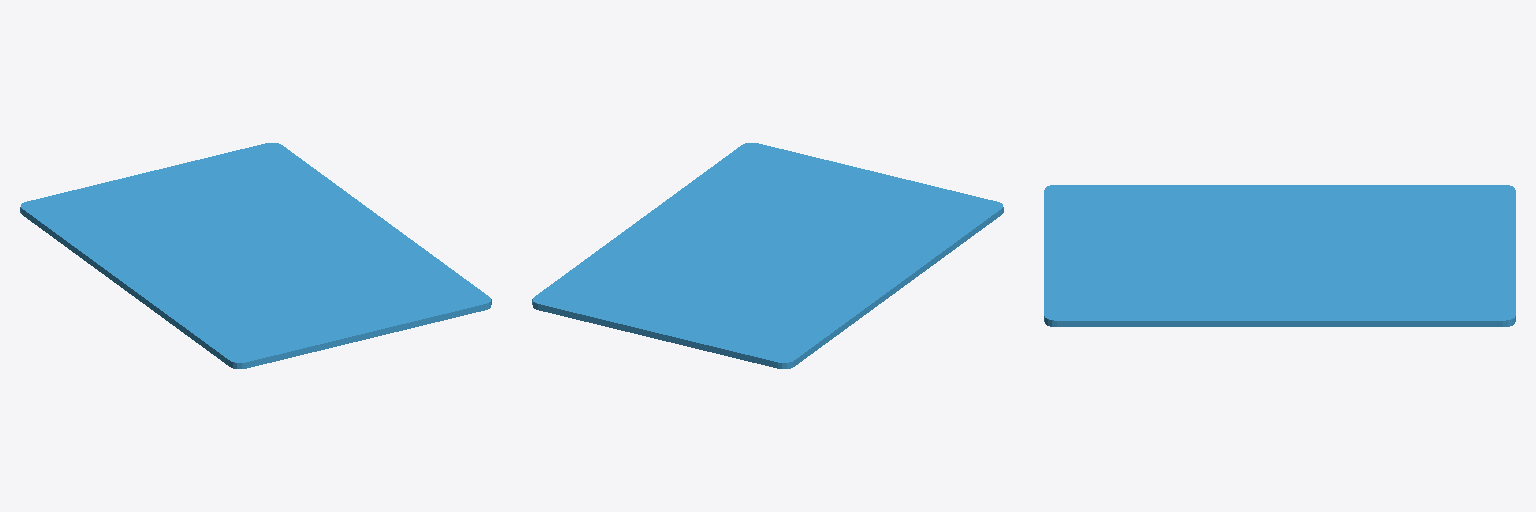
The robot description file, URDF, robot "checkeboard_horizontal":
<?xml version="1.0"?>
<robot name="checkeboard_horizontal">
  <link name="world"/>

  <joint name="fixed" type="fixed">
    <parent link="world"/>
    <child link="checkerboard_base_link"/>
  </joint>

  <link name="checkerboard_base_link">
    <visual>
      <geometry>
        <mesh filename="package://dxl_armed_turtlebot/worlds/model/checkerboard/checkerboard_20mm_7x4.dae"/>
      </geometry>
    </visual>
    <collision>
      <geometry>
        <mesh filename="package://dxl_armed_turtlebot/worlds/model/checkerboard/checkerboard_20mm_7x4.dae"/>
      </geometry>
    </collision>
    <inertial>
      <mass value="0.1"/>
      <inertia ixx="1.0" ixy="0.0" ixz="0.0" iyy="1.0" iyz="0.0" izz="1.0"/>
    </inertial>
  </link>
</robot>

--- What the picture shows (computed from the rendered views, not written in the file) ---
3 views of the same robot in one strip: view 1: azimuth 30°, elevation 25°; view 2: azimuth 150°, elevation 25°; view 3: azimuth 270°, elevation 25° (orthographic).
Model checkeboard_horizontal with 2 links and 1 joints (1 fixed), rooted at world, posed all joints at 0.
Visible links, largest first — view 1: checkerboard_base_link; view 2: checkerboard_base_link; view 3: checkerboard_base_link.
Link boxes in pixels (box(x1,y1,x2,y2)): checkerboard_base_link: box(20, 143, 491, 368); checkerboard_base_link: box(532, 143, 1003, 368); checkerboard_base_link: box(1044, 185, 1515, 326).
Bounding box of the posed robot: 0.13 × 0.19 × 0.003 m (x, y, z).
1 mesh visuals loaded from 1 distinct referenced files (1 Collada DAE).
